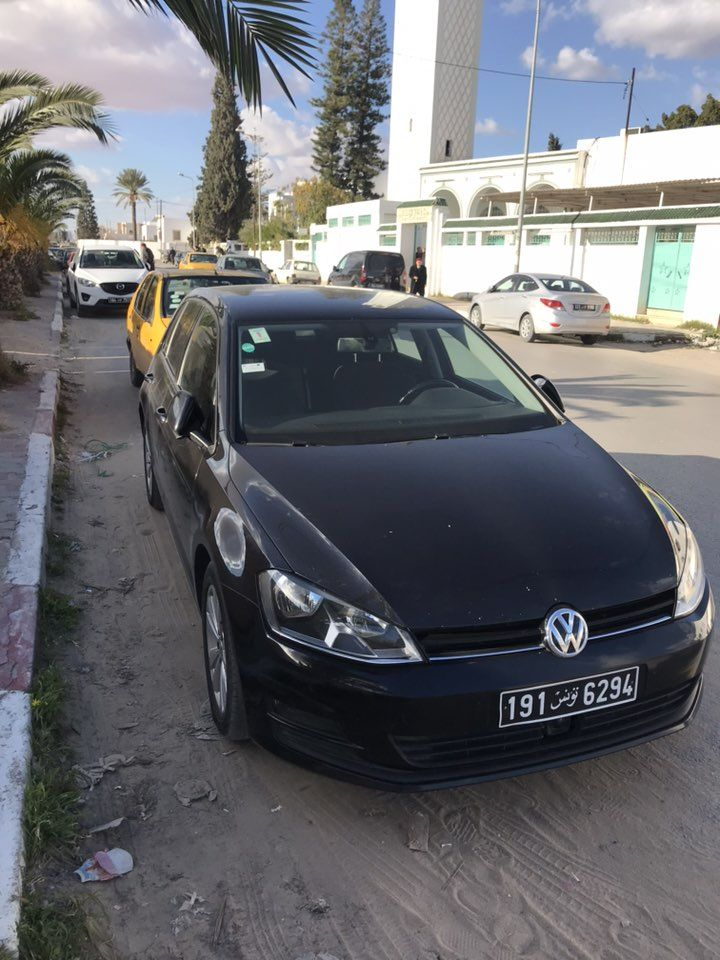LP: (497, 664, 641, 728)
